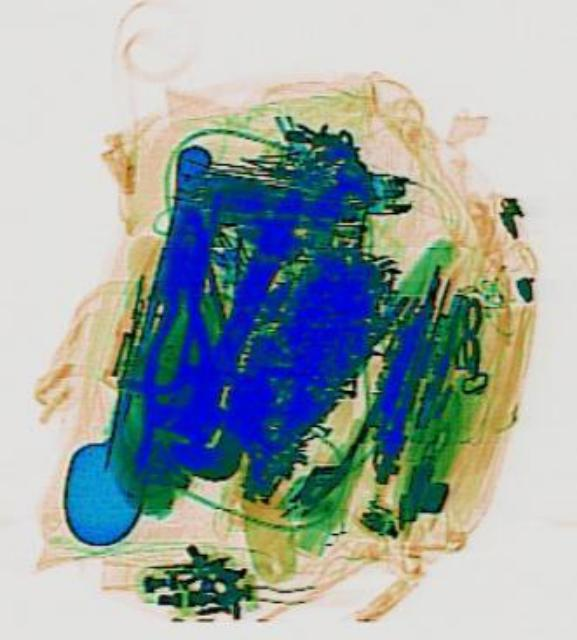Pliers: (134, 200, 224, 474)
